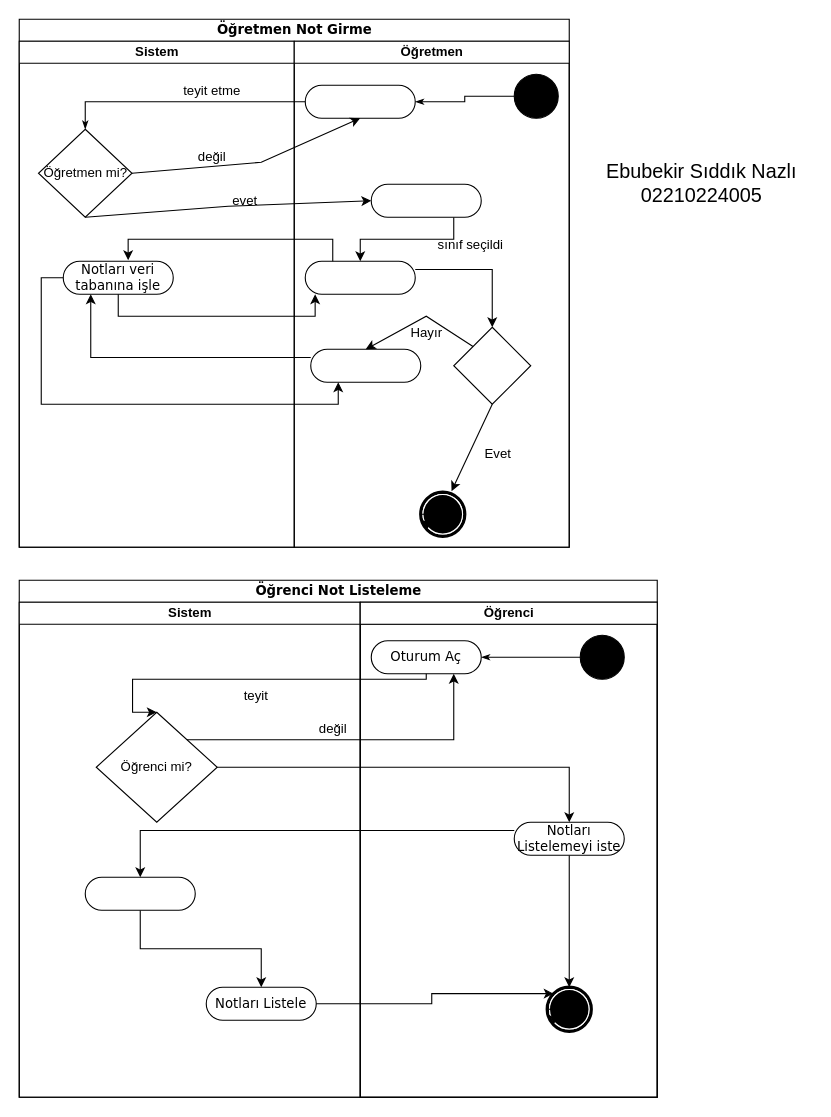
Image size: 831x1117. Some labels were removed from this diagram. Each missing label, with the centre of its shape:
Bilgileri Gir: [359,101]
Notları Değiştir: [365,365]
Notları Gir: [359,277]
Notları Onayla: [492,365]
Notları veri tabanından al: [139,893]
Sınıf Seç: [425,200]
